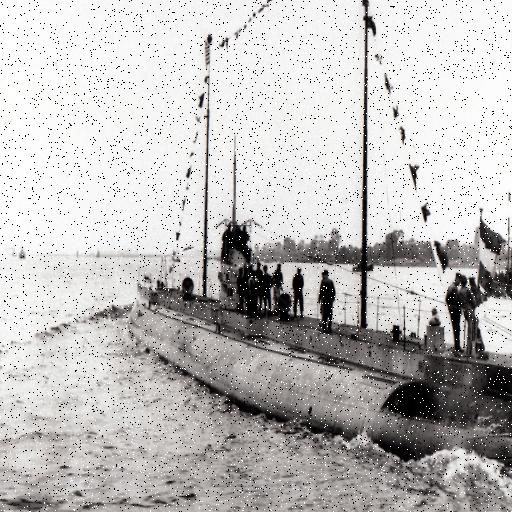submarine: (102, 1, 512, 490)
